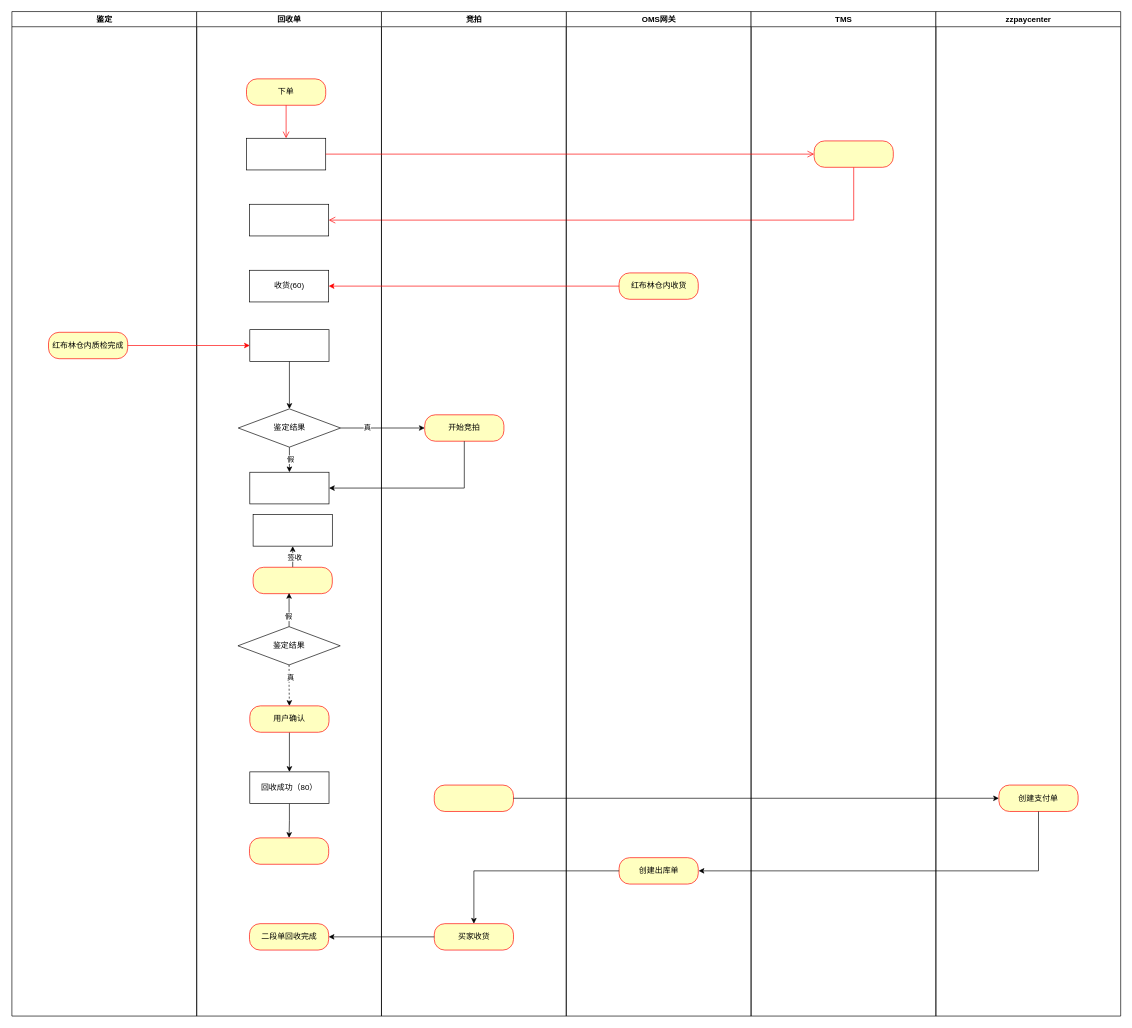
Some shapes in this 1132 by 1028 pixel diagram are drawn without their labels. Here are the shapes that lost their labels. From the top down, the centre of each, then its label:
the point at 286,154: 双方确认回收(40)
the point at 853,153: 预约物流or私域发货
the point at 289,220: 发货(50)
the point at 289,345: 质检完成待报价(65)
the point at 289,488: 质检完成，更新报价 （70）
the point at 292,530: 回收取消（90）
the point at 292,580: 创建召回单
the point at 473,797: 买家支付
the point at 289,850: 创建二段单
